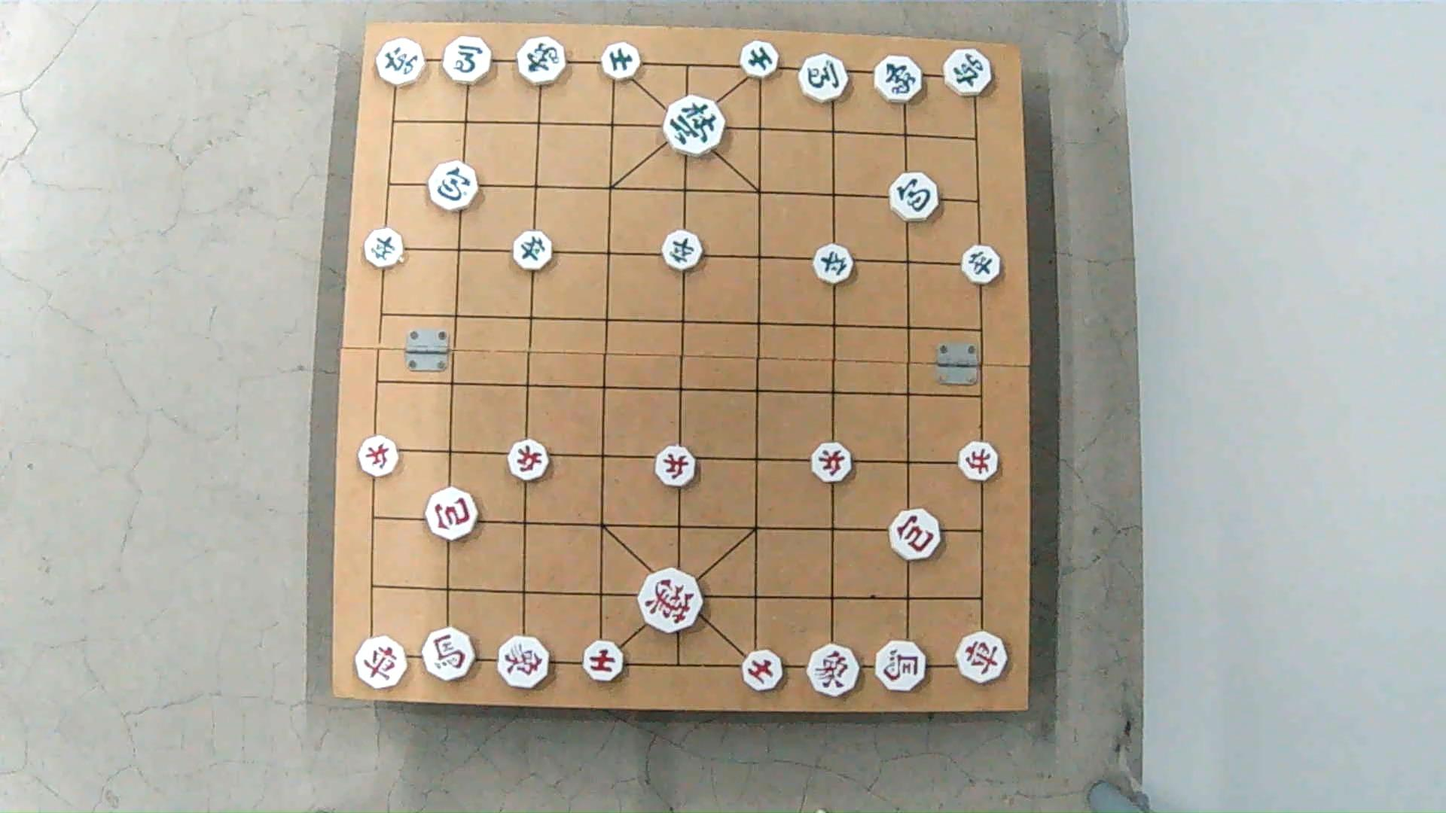cha_green: (374, 37, 427, 83), (944, 51, 994, 97)
cha_red: (356, 637, 411, 692), (957, 634, 1007, 683)
jol_green: (664, 230, 706, 269), (514, 231, 557, 269), (812, 247, 853, 285), (365, 229, 407, 266), (959, 247, 1000, 284)
jol_red: (652, 446, 696, 486), (808, 443, 850, 483), (505, 441, 548, 480), (361, 438, 401, 477), (956, 443, 998, 480)
ma_green: (443, 35, 494, 85), (798, 55, 849, 102)
ma_red: (874, 639, 931, 692), (425, 630, 477, 681)
po_green: (426, 162, 477, 210), (886, 175, 937, 222)
po_red: (424, 492, 477, 540), (889, 511, 942, 559)
sa_green: (601, 43, 643, 79), (737, 42, 776, 78)
sa_red: (581, 643, 624, 682), (741, 652, 783, 688)
sang_green: (517, 38, 569, 84), (872, 56, 923, 100)
sang_red: (494, 637, 549, 689), (807, 647, 861, 696)
wang_green: (661, 99, 723, 155)
wang_red: (639, 570, 703, 630)
